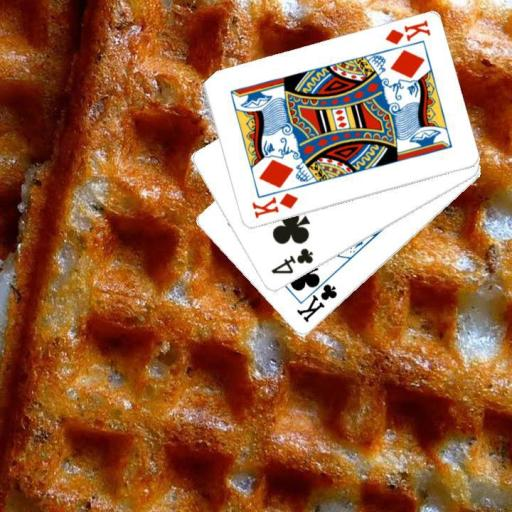4C: (267, 245, 315, 276)
KC: (293, 272, 338, 324)
KD: (248, 190, 300, 220), (382, 17, 432, 47)
